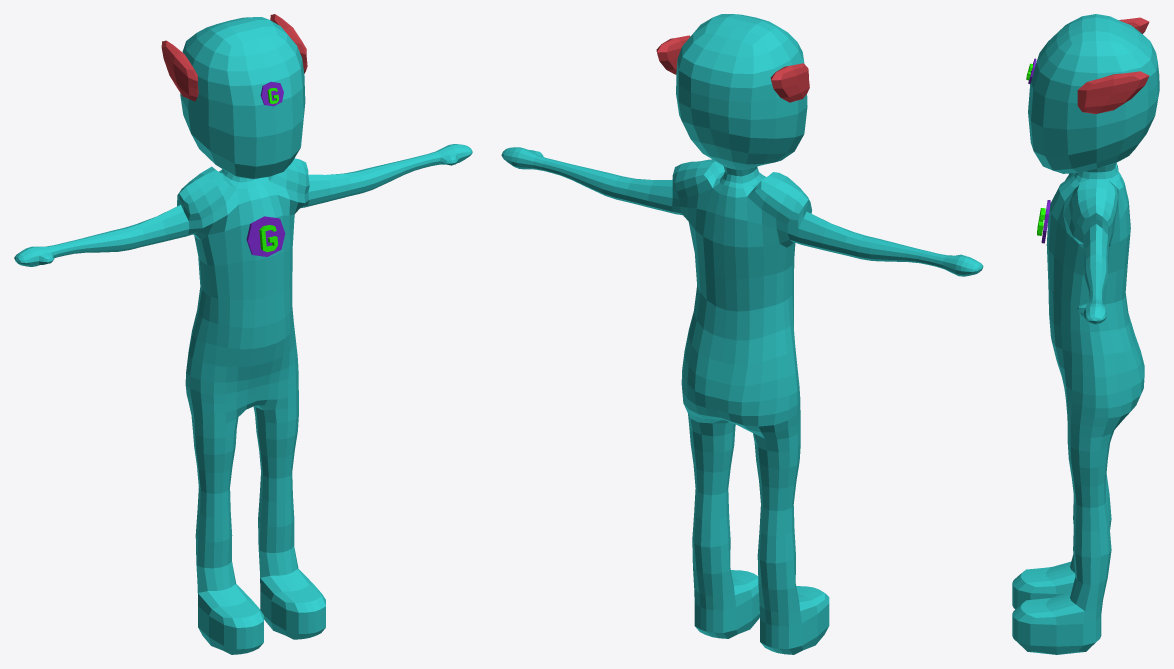
Rendered from MainCharacter.FBX.
3 views of the same model, side by side, from view 1: azimuth 30°, elevation 25°; view 2: azimuth 150°, elevation 25°; view 3: azimuth 270°, elevation 25° (orthographic). The views are drawn at different scales.
Visible parts, largest first — view 1: MainCharacter; view 2: MainCharacter; view 3: MainCharacter.
Boxes of the visible parts, bbox=[...] form: MainCharacter: bbox=[14, 14, 472, 654]; MainCharacter: bbox=[501, 14, 983, 654]; MainCharacter: bbox=[1012, 14, 1159, 654].
Bounding box in the file's own units: 167 × 46.15 × 210.
